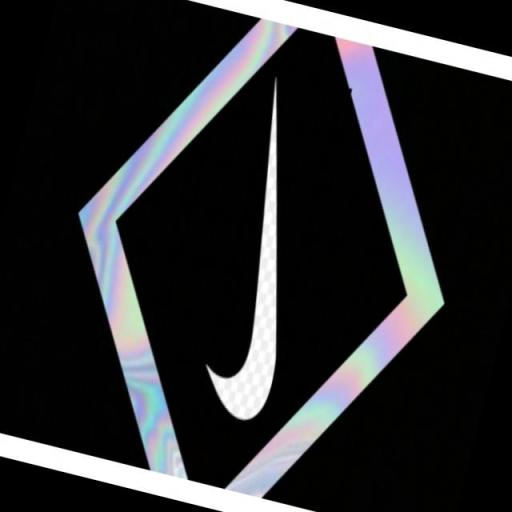Nike: (184, 68, 358, 438)
